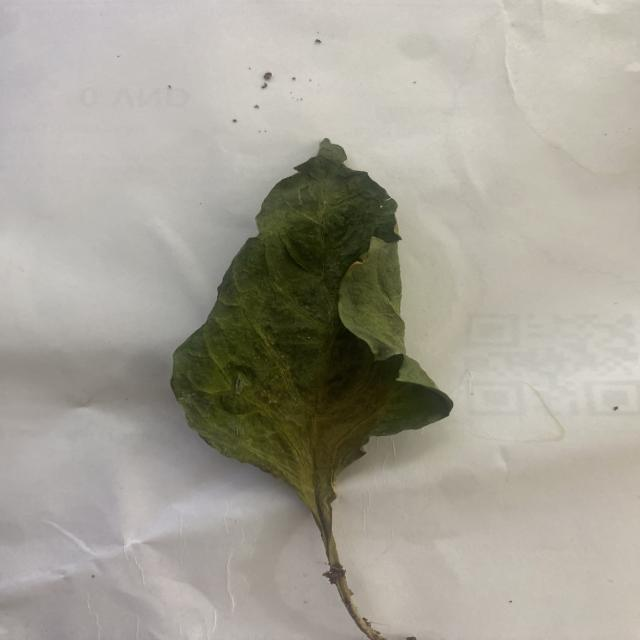Leaf: (169, 138, 454, 516)
